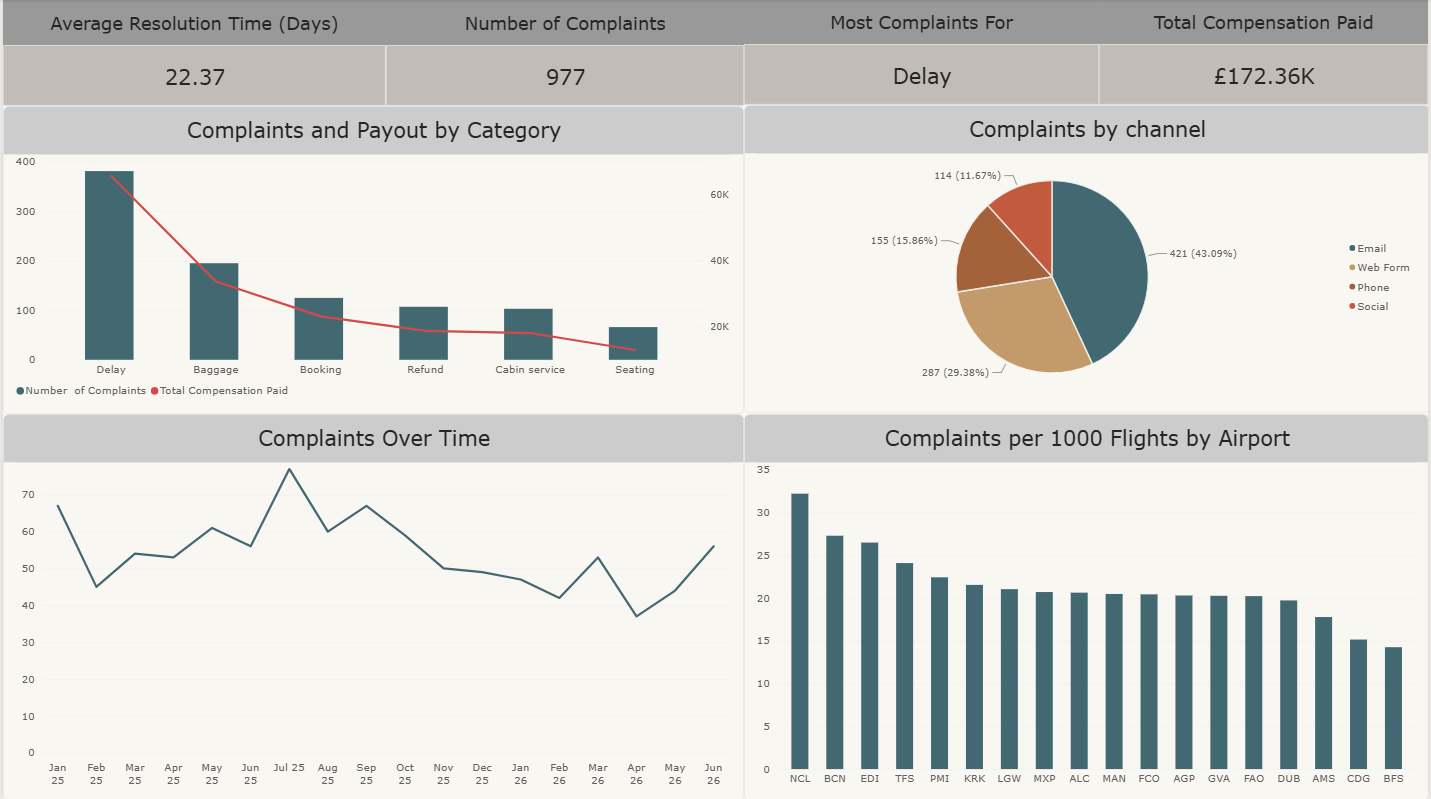

What the dashboard file says about the page in this screenshot:
{"tool":"powerbi","page":{"name":"Page 2","canvas":[1920,1080],"ordinal":1},"visuals":[{"type":"cardVisual","title":"Average Resolution Time (Days)","fields":{"Data":["Avg(complaints.days_to_resolve)"]},"box":[0,1.5,515.6,142.4],"z":0},{"type":"cardVisual","title":"Number of Complaints","fields":{"Data":["Count(complaints.complaint_id)"]},"box":[515.6,1.5,482.6,142.4],"z":1000},{"type":"cardVisual","title":"Most Complaints For","fields":{"Data":["Min(complaints.category)"]},"box":[998.2,0,478.1,142.4],"z":2000},{"type":"lineClusteredColumnComboChart","title":"Complaints and Payout by Category","fields":{"Category":["complaints.category"],"Y":["CountNonNull(complaints.complaint_id)"],"Y2":["Sum(complaints.compensation_paid_gbp)"]},"box":[0,144.1,997.9,414.8],"z":3000},{"type":"clusteredColumnChart","title":"Complaints per 1000 Flights by Airport","fields":{"Category":["flights.origin"],"Y":["complaints.Complaints per 1000 Flights"]},"box":[997.9,558.9,922.4,521.1],"z":4000},{"type":"lineChart","title":"Complaints Over Time","fields":{"Category":["Date Table.Month Year"],"Y":["CountNonNull(complaints.complaint_id)"]},"box":[0,558.9,997.9,521.1],"z":5000},{"type":"cardVisual","title":"Total Compensation Paid","fields":{"Data":["Sum(complaints.compensation_paid_gbp)"]},"box":[1476.3,0,443.7,142.4],"z":6000},{"type":"pieChart","title":"Complaints by channel","fields":{"Category":["complaints.channel"],"Y":["Count(complaints.complaint_id)"]},"box":[997.9,142.7,923.8,414.8],"z":7000}]}

Visuals, with their boxes in screenshot pixels (x1, y1, x2, y2), scaled from the page's 1920x1080 canvas onto the 1431x799 screenshot:
"Average Resolution Time (Days)" cardVisual: rect(0, 1, 384, 106)
"Number of Complaints" cardVisual: rect(384, 1, 744, 106)
"Most Complaints For" cardVisual: rect(744, 0, 1100, 105)
"Complaints and Payout by Category" lineClusteredColumnComboChart: rect(0, 107, 744, 413)
"Complaints per 1000 Flights by Airport" clusteredColumnChart: rect(744, 413, 1430, 798)
"Complaints Over Time" lineChart: rect(0, 413, 744, 798)
"Total Compensation Paid" cardVisual: rect(1100, 0, 1430, 105)
"Complaints by channel" pieChart: rect(744, 106, 1430, 412)
